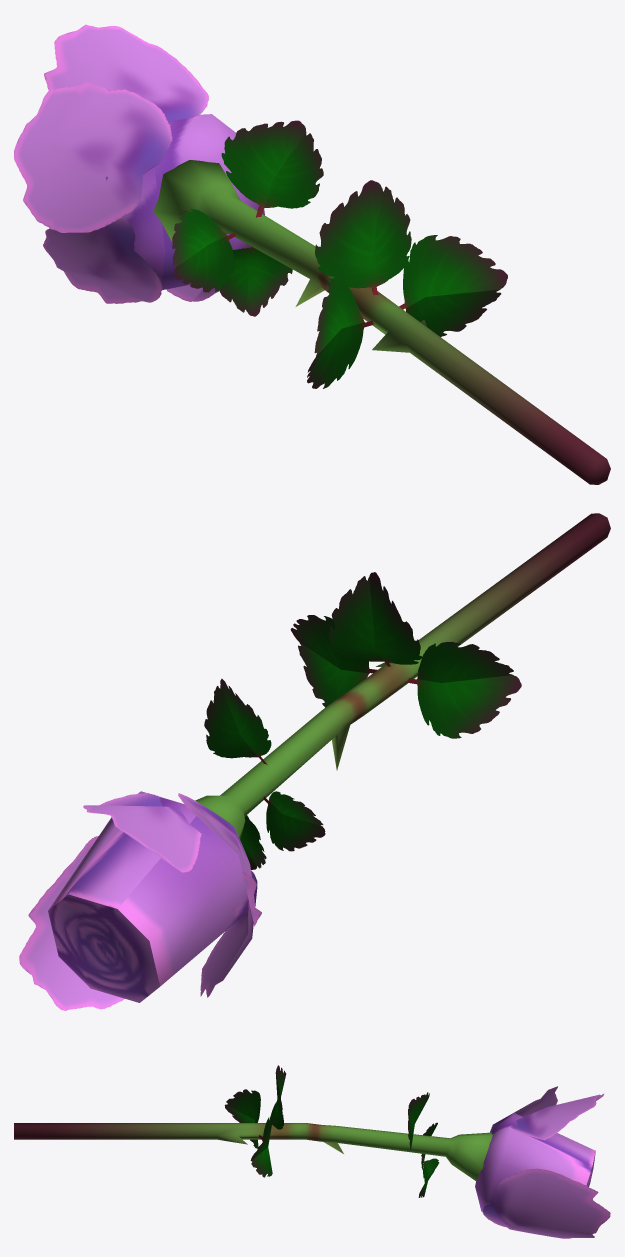
The model's file is SM_Rose_Lilac_Closed.fbx.
The picture shows the model from 3 angles, top to bottom: view 1: azimuth 30°, elevation 25°; view 2: azimuth 150°, elevation 25°; view 3: azimuth 270°, elevation 25°; orthographic projection. The views are drawn at different scales.
Visible parts, largest first — view 1: Rose_Lilac_Closed; view 2: Rose_Lilac_Closed; view 3: Rose_Lilac_Closed.
Boxes of the visible parts, x1,y1,x2,y2 form: Rose_Lilac_Closed: [14, 24, 610, 484]; Rose_Lilac_Closed: [19, 513, 610, 1010]; Rose_Lilac_Closed: [14, 1065, 610, 1238].
Size of the model in its own units: 35.12 by 42.85 by 129.
